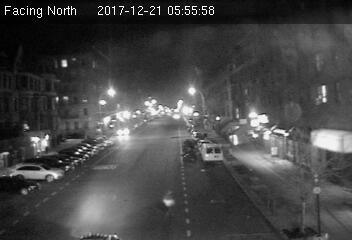truck: (201, 141, 224, 164)
